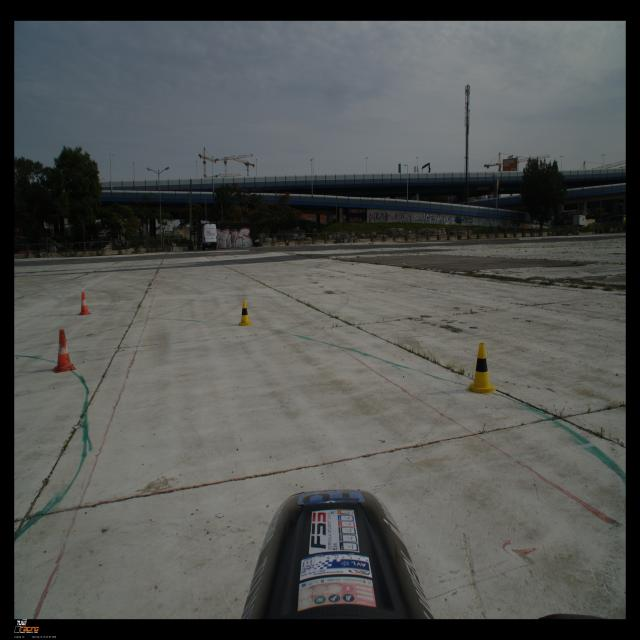orange_cone: (52, 329, 76, 373), (77, 292, 92, 315)
yellow_cone: (466, 342, 498, 394), (236, 300, 254, 326)
